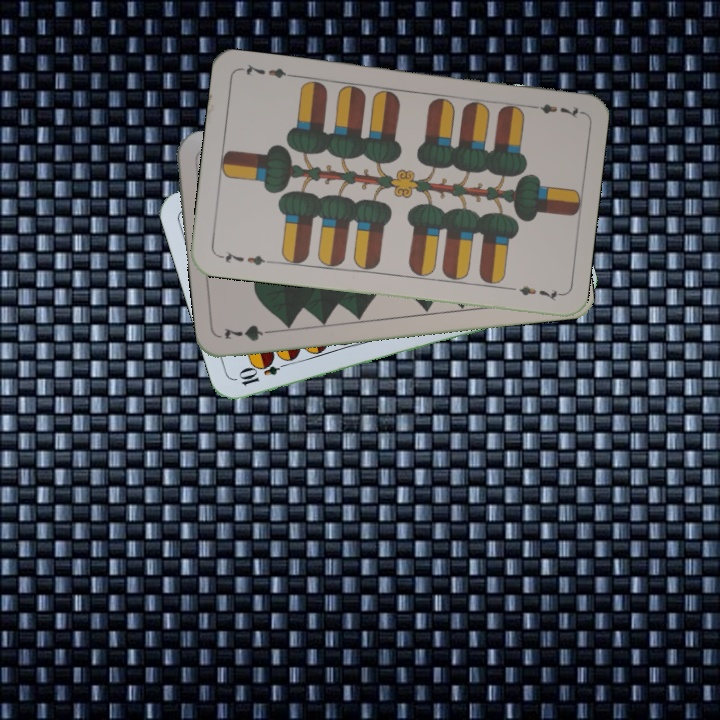E10: (235, 356, 293, 388)
E7: (214, 246, 273, 268), (524, 99, 583, 120)
G7: (220, 321, 279, 344)
